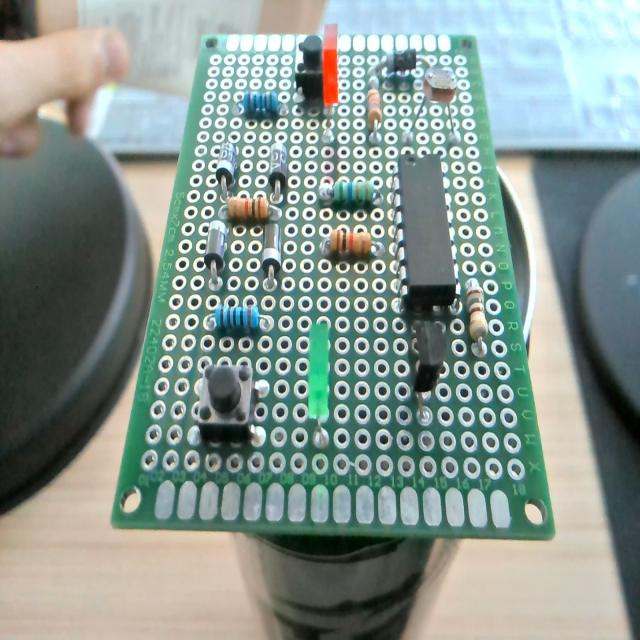IC: (398, 154, 456, 312)
cds: (422, 65, 460, 143)
diode: (361, 47, 440, 78), (203, 220, 230, 290), (211, 139, 239, 193), (261, 224, 282, 288), (268, 142, 287, 196)
led: (296, 316, 342, 444), (321, 23, 341, 146)
resistor: (464, 280, 486, 346), (328, 228, 371, 258), (215, 303, 260, 330), (331, 179, 377, 204), (239, 91, 280, 118), (227, 196, 269, 222), (366, 88, 382, 130)
switch: (195, 360, 259, 444), (295, 33, 325, 110)
transistor: (402, 317, 450, 415)
